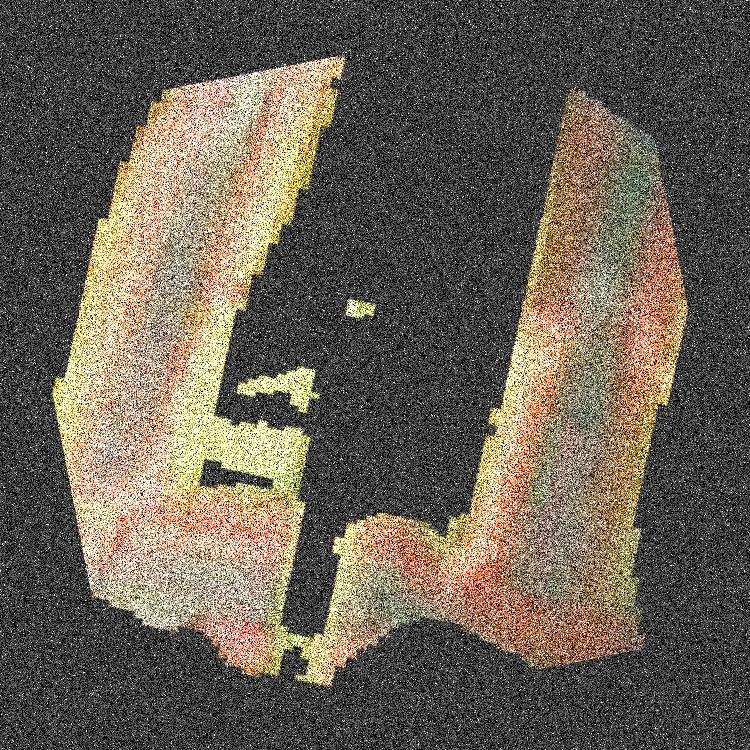Colete: (158, 0, 290, 749)
